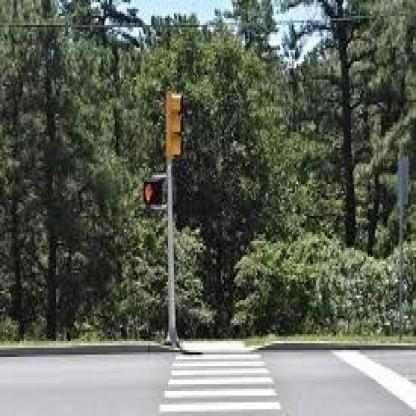Don-t Walk: (144, 178, 164, 206)
